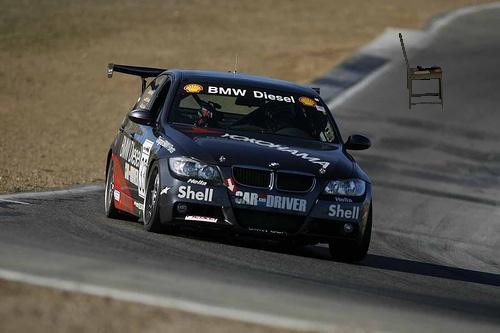tampered: (400, 34, 443, 109)
